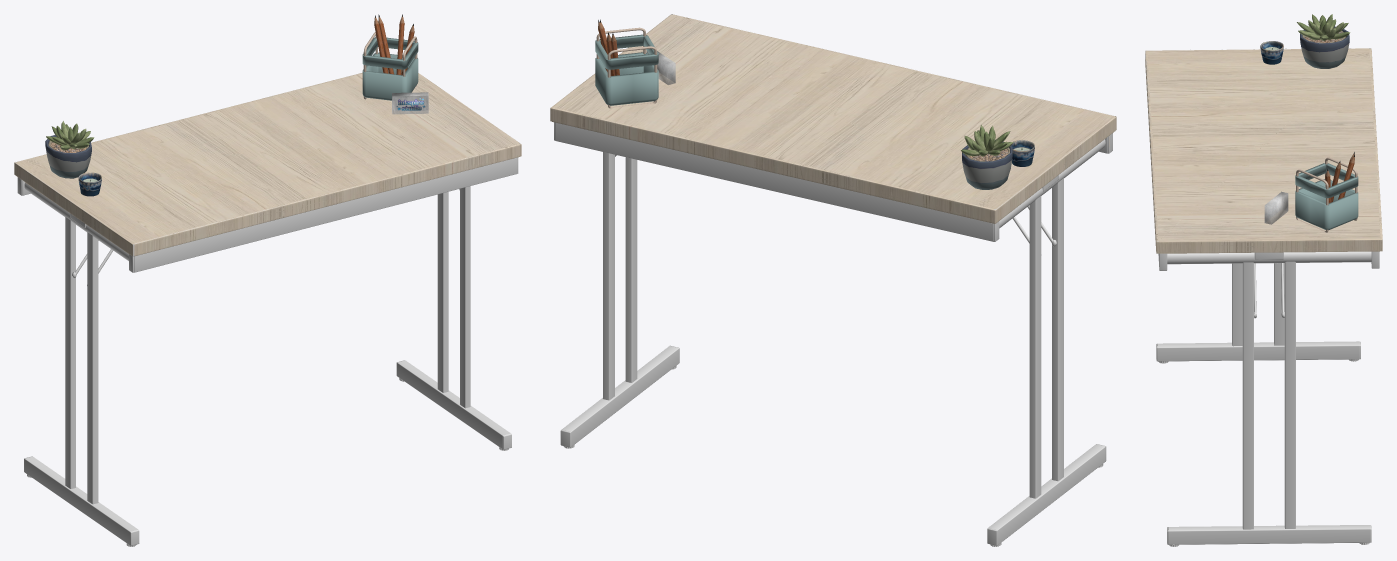
Rendered from finalDesk.glb.
The picture shows the model from 3 angles, left to right: view 1: azimuth 30°, elevation 25°; view 2: azimuth 150°, elevation 25°; view 3: azimuth 270°, elevation 25°; orthographic projection. The views are drawn at different scales.
Visible parts, largest first — view 1: desk_surface, desk_legs, Cube, G-cactus_gasteria_1, Cylinder.001, Blessed; view 2: desk_surface, desk_legs, Cube, G-cactus_gasteria_1; view 3: desk_surface, desk_legs, Cube, G-cactus_gasteria_1, Blessed, pot_1, Cylinder.001, Cube.001.
Boxes of the visible parts, x1=… form: desk_surface: x1=14, y1=72, x2=521, y2=256; desk_legs: x1=15, y1=143, x2=520, y2=546; Cube: x1=362, y1=37, x2=418, y2=100; G-cactus_gasteria_1: x1=45, y1=121, x2=94, y2=178; Cylinder.001: x1=374, y1=14, x2=414, y2=75; Blessed: x1=392, y1=92, x2=428, y2=114; desk_surface: x1=550, y1=14, x2=1116, y2=223; desk_legs: x1=554, y1=14, x2=1115, y2=546; Cube: x1=595, y1=34, x2=658, y2=105; G-cactus_gasteria_1: x1=961, y1=125, x2=1013, y2=189; desk_surface: x1=1145, y1=48, x2=1382, y2=253; desk_legs: x1=1145, y1=48, x2=1379, y2=546; Cube: x1=1295, y1=163, x2=1358, y2=229; G-cactus_gasteria_1: x1=1297, y1=14, x2=1350, y2=68; Blessed: x1=1264, y1=191, x2=1288, y2=224; pot_1: x1=1260, y1=41, x2=1283, y2=64; Cylinder.001: x1=1325, y1=152, x2=1354, y2=203; Cube.001: x1=1296, y1=157, x2=1357, y2=232.
Bounding box in the file's own units: 1.01 × 0.915 × 0.5243.
Materials: 16 (11 with a texture image).
